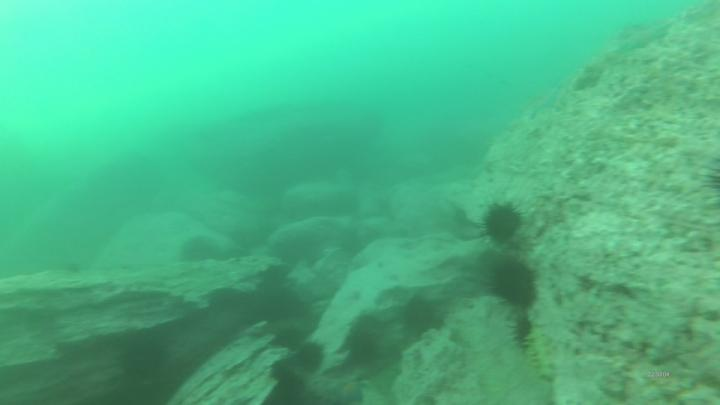echinus: (493, 258, 540, 310), (120, 338, 168, 381), (480, 203, 525, 248), (402, 294, 439, 337), (176, 235, 222, 265), (268, 356, 305, 393), (295, 342, 328, 376), (509, 317, 535, 357), (271, 328, 312, 351)
holothurian: (525, 322, 562, 384)
